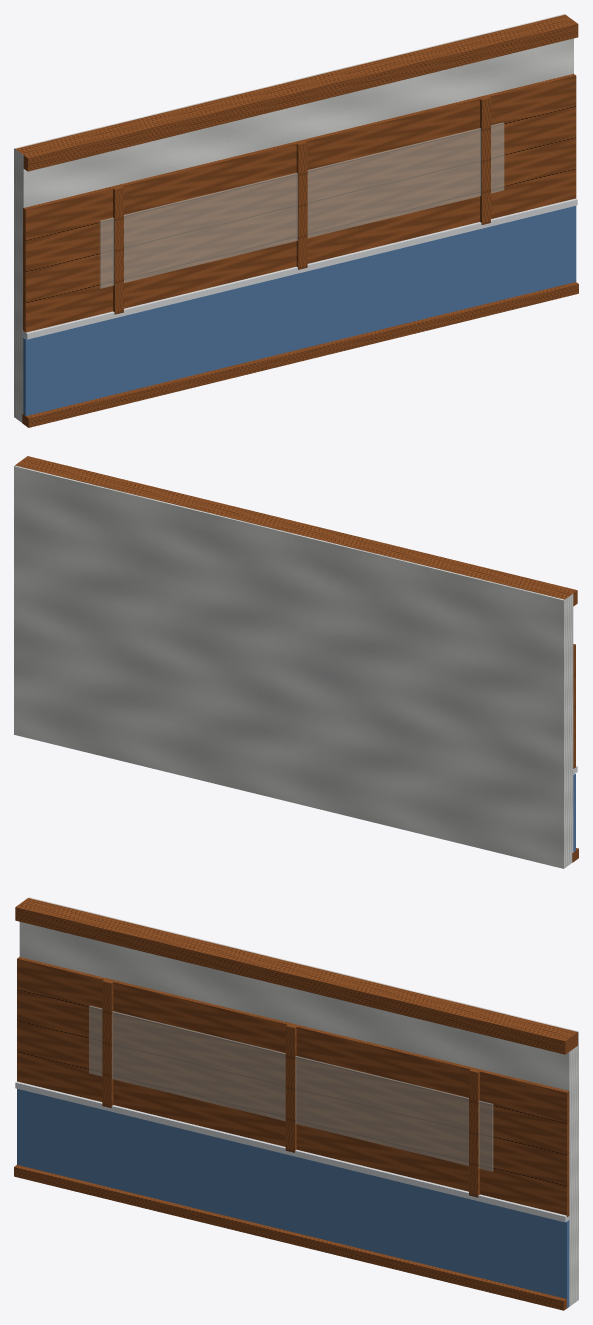
The model's file is cruise-ship-deck-and-lounge-cruise-ship-deck-and-loung-0adeeea9__38460.glb.
3 renders of one model, top to bottom at view 1: azimuth 30°, elevation 25°; view 2: azimuth 150°, elevation 25°; view 3: azimuth 330°, elevation 25°, orthographic.
Parts seen in each view (by area): view 1: cruise-ship-deck-and-lounge-lounge-wall-panel; view 2: cruise-ship-deck-and-lounge-lounge-wall-panel; view 3: cruise-ship-deck-and-lounge-lounge-wall-panel.
Boxes of the visible parts, x1=… form: cruise-ship-deck-and-lounge-lounge-wall-panel: x1=14, y1=14, x2=578, y2=427; cruise-ship-deck-and-lounge-lounge-wall-panel: x1=14, y1=456, x2=578, y2=868; cruise-ship-deck-and-lounge-lounge-wall-panel: x1=14, y1=897, x2=578, y2=1310.
Size of the model in its own units: 6 by 2.8 by 0.2802.
Materials: 5 (2 with a texture image).
